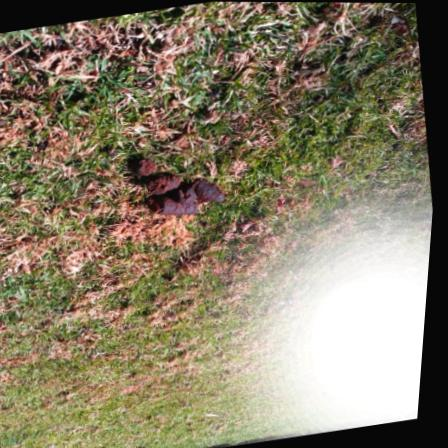dog-poop: (130, 141, 234, 229)
